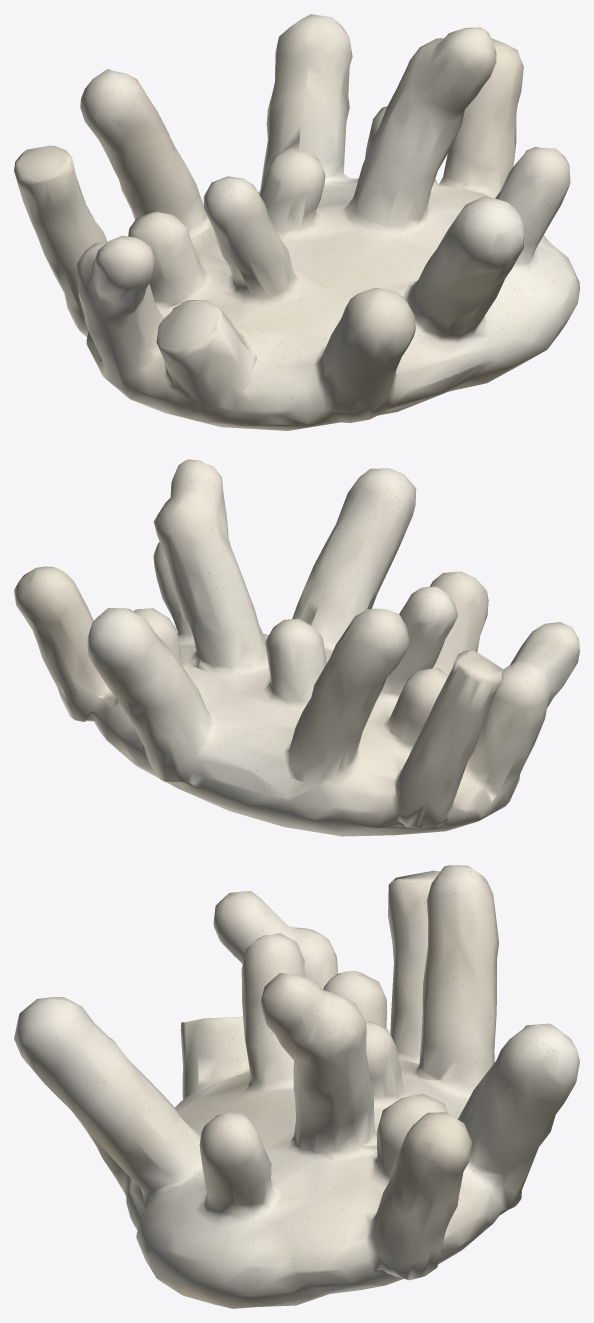
Rendered from CoralPiece_B.gltf.
3 views of the same model, one above another, from view 1: azimuth 30°, elevation 25°; view 2: azimuth 150°, elevation 25°; view 3: azimuth 270°, elevation 25° (orthographic). The views are drawn at different scales.
Parts seen in each view (by area): view 1: CoralPiece_B; view 2: CoralPiece_B; view 3: CoralPiece_B.
Part boxes in pixels (bbox=[...]): CoralPiece_B: bbox=[14, 14, 579, 430]; CoralPiece_B: bbox=[14, 459, 579, 836]; CoralPiece_B: bbox=[14, 865, 579, 1308].
Size of the model in its own units: 0.2371 by 0.1426 by 0.2124.
Materials: 1 (1 with a texture image).
